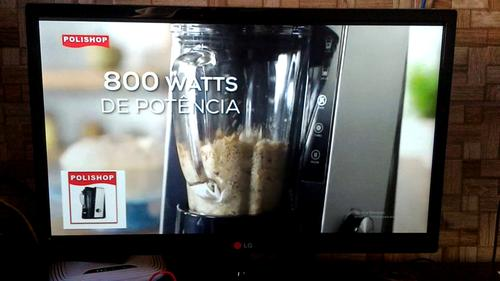Polishop #1: (61, 169, 126, 228)
